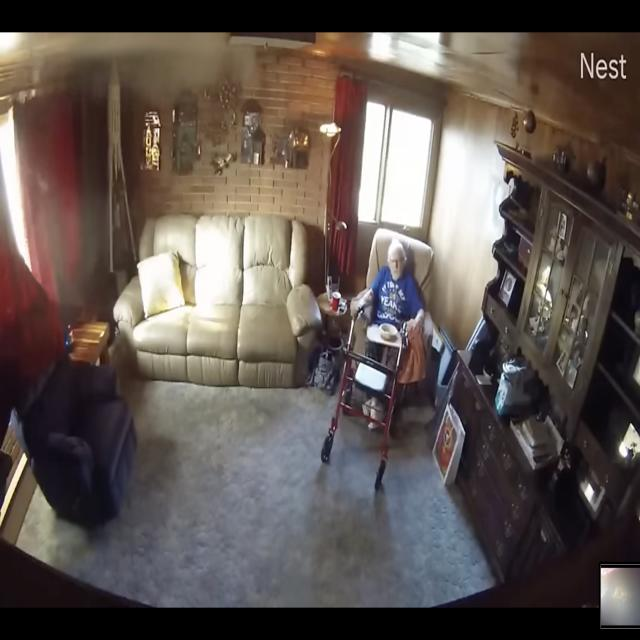Atencao: (8, 36, 250, 352)
